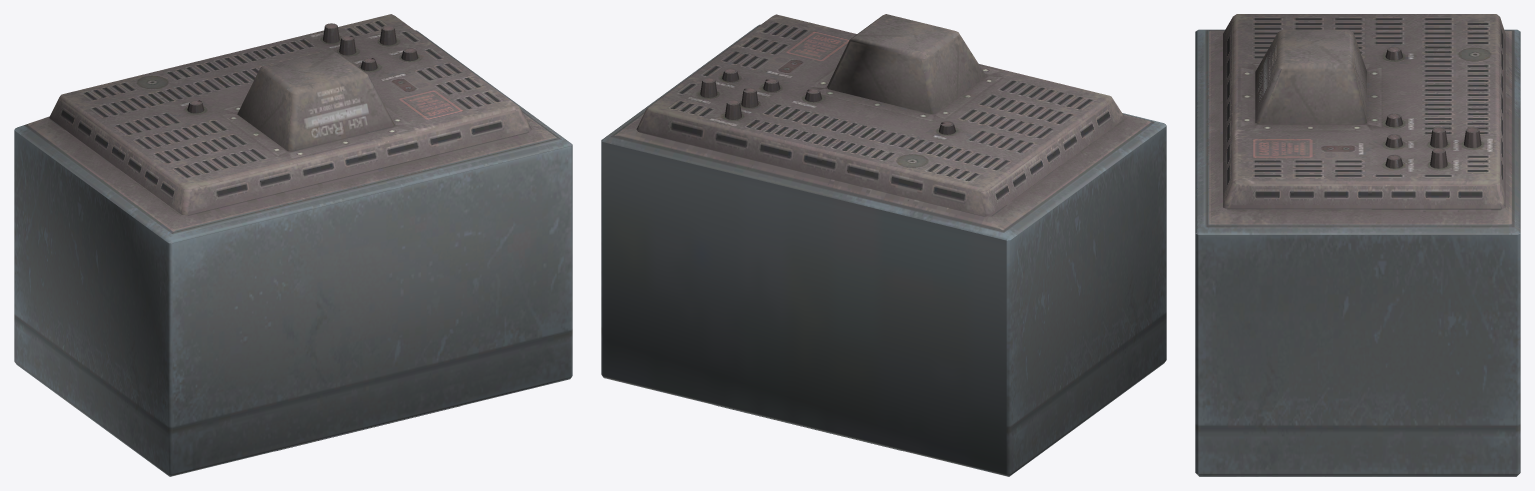
Rendered from p_int_monitor_c_bink_LOD0.obj.
3 views of the same model, side by side, from view 1: azimuth 30°, elevation 25°; view 2: azimuth 150°, elevation 25°; view 3: azimuth 270°, elevation 25° (orthographic). The views are drawn at different scales.
Parts seen in each view (by area): view 1: mtl_p_int_monitor_c; view 2: mtl_p_int_monitor_c; view 3: mtl_p_int_monitor_c.
Boxes of the visible parts, bbox=[...] form: mtl_p_int_monitor_c: bbox=[14, 14, 572, 476]; mtl_p_int_monitor_c: bbox=[601, 14, 1166, 476]; mtl_p_int_monitor_c: bbox=[1195, 14, 1520, 476].
Size of the model in its own units: 113 by 86.81 by 76.2.
